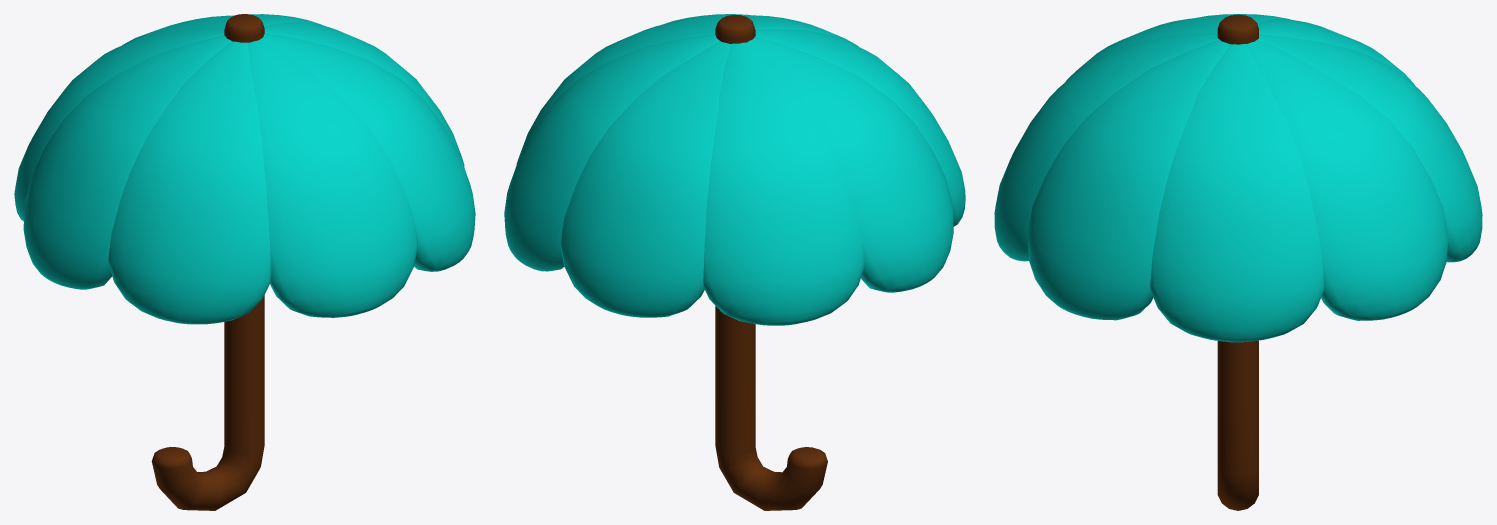
The model's file is Umbrella3.fbx.
3 renders of one model, left to right at view 1: azimuth 30°, elevation 25°; view 2: azimuth 150°, elevation 25°; view 3: azimuth 270°, elevation 25°, orthographic. The views are drawn at different scales.
Parts seen in each view (by area): view 1: pCube42; view 2: pCube42; view 3: pCube42.
Boxes of the visible parts, <box> form: pCube42: <box>14,14,475,510</box>; pCube42: <box>504,14,965,510</box>; pCube42: <box>994,14,1482,510</box>.
Size of the model in its own units: 4.49 by 5.1 by 4.49.
1 material, 1 textured.
